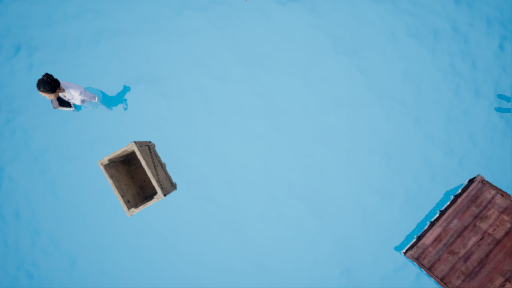person: (30, 72, 134, 118)
